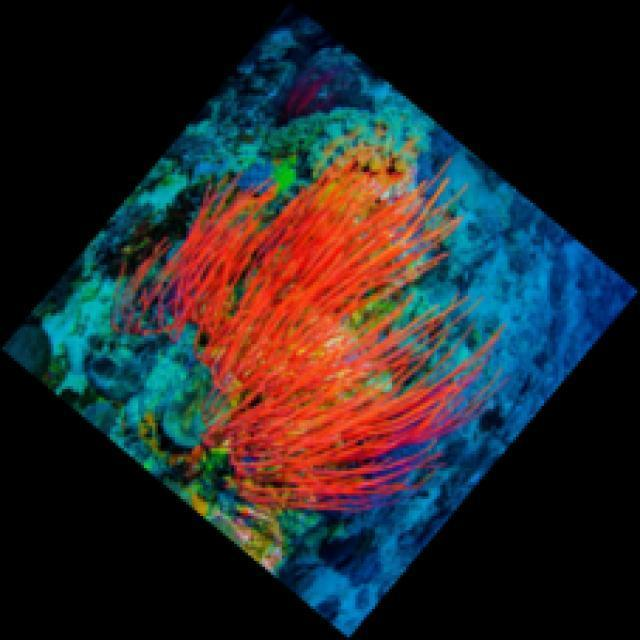Healthy: (115, 142, 507, 512)
